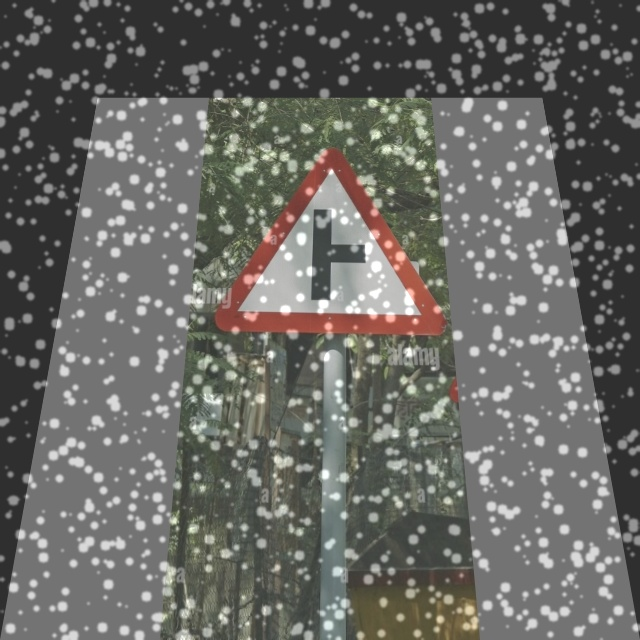Side_Road_Right: (217, 146, 446, 339)
